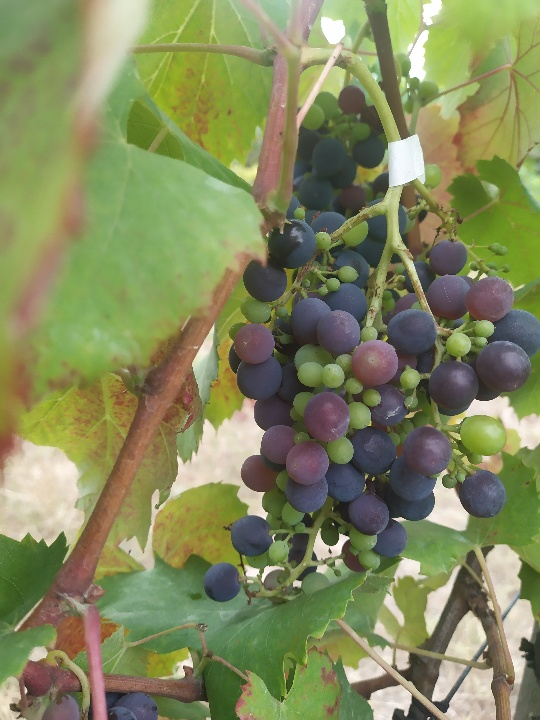grape: (200, 197, 540, 606)
